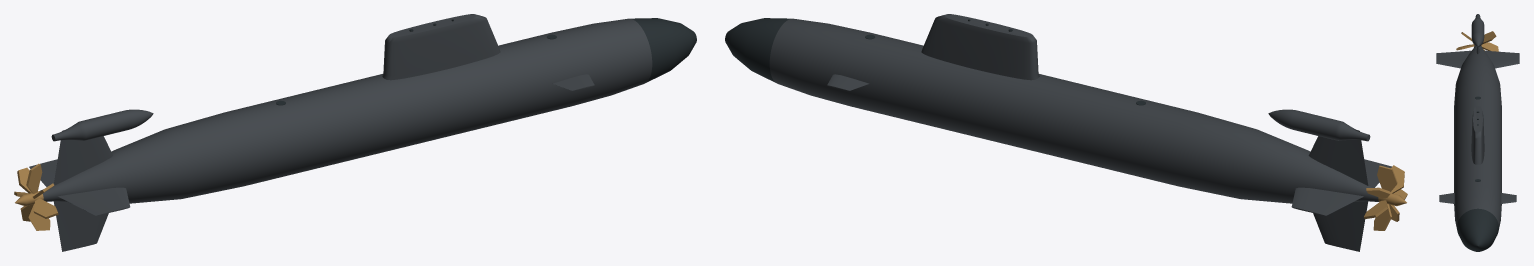
Rendered from cw90_victor3.glb.
3 views of the same model, side by side, from view 1: azimuth 30°, elevation 25°; view 2: azimuth 150°, elevation 25°; view 3: azimuth 270°, elevation 25° (orthographic). The views are drawn at different scales.
Parts seen in each view (by area): view 1: submarine_coating, boot_topping, bronze; view 2: submarine_coating, boot_topping, bronze; view 3: submarine_coating, boot_topping, bronze.
Boxes of the visible parts, x1,y1,x2,y2 form: submarine_coating: [29, 14, 652, 251]; boot_topping: [276, 18, 696, 105]; bronze: [14, 163, 58, 230]; submarine_coating: [769, 14, 1391, 251]; boot_topping: [725, 18, 1145, 105]; bronze: [1364, 165, 1407, 230]; submarine_coating: [1436, 14, 1519, 228]; boot_topping: [1457, 96, 1498, 251]; bronze: [1456, 31, 1498, 51].
Size of the model in its own units: 10 by 1.92 by 1.7.
